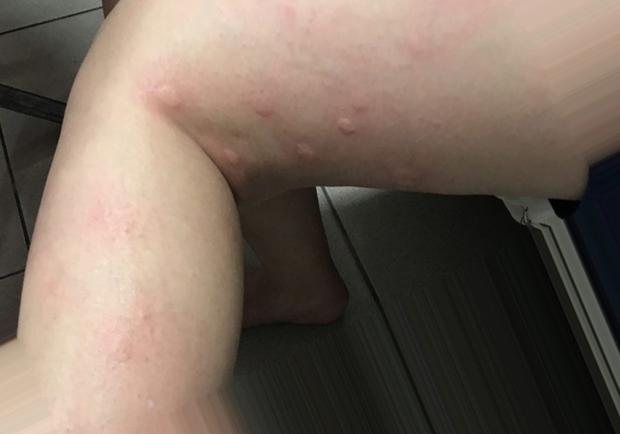Mosquito: (146, 80, 189, 122), (209, 144, 248, 171), (333, 115, 360, 146), (251, 95, 281, 122), (294, 138, 317, 170)
